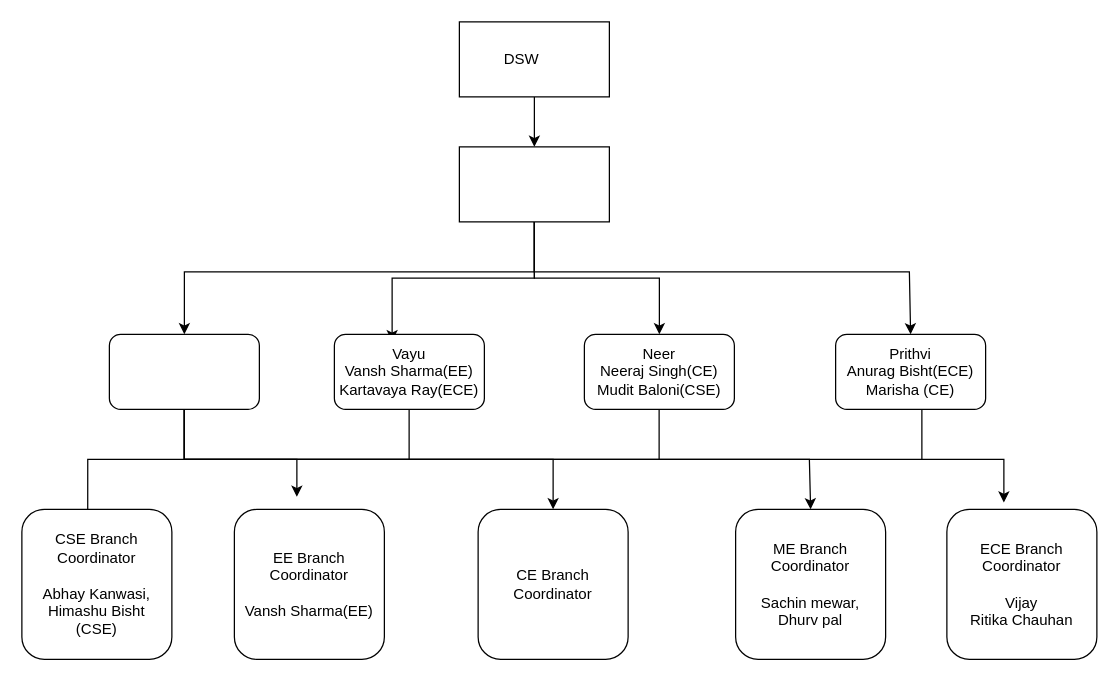
Some shapes in this 1119 by 681 pixel diagram are drawn without their labels. Each missing label, with the centre of its shape:
Agni Mohit Singh(CSE) ,Abhishek Upreti(ME): (183,371)
Technical Coordinator: (533,184)
